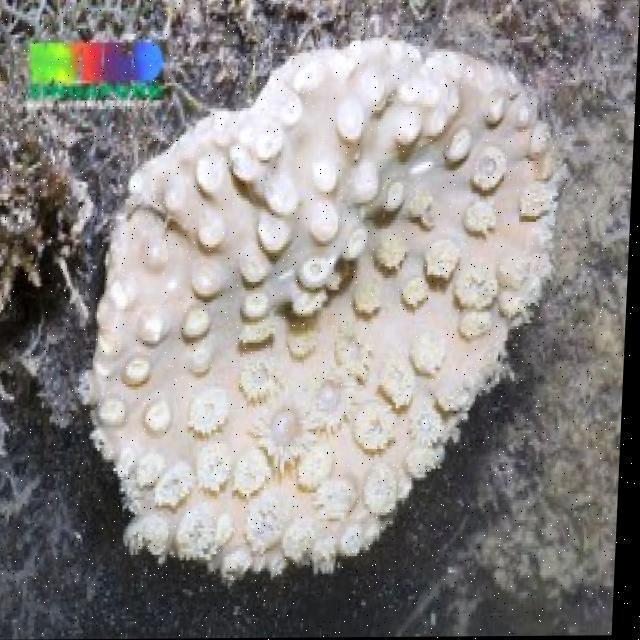Bleached Coral: (80, 22, 584, 614)
